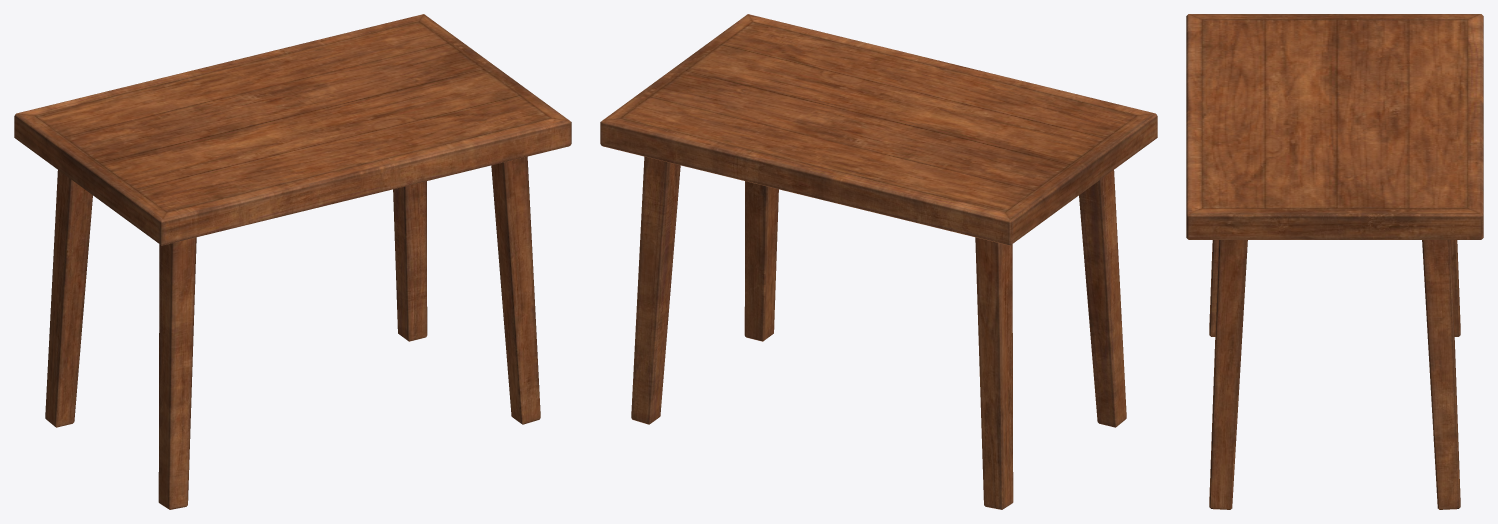
File: wooden_table_02.glb
3 views of the same model, side by side, from view 1: azimuth 30°, elevation 25°; view 2: azimuth 150°, elevation 25°; view 3: azimuth 270°, elevation 25° (orthographic).
Visible parts, largest first — view 1: wooden_table_02; view 2: wooden_table_02; view 3: wooden_table_02.
Part boxes in pixels (box(x1,y1,x2,y2)): wooden_table_02: box(14, 14, 571, 509); wooden_table_02: box(600, 14, 1157, 509); wooden_table_02: box(1186, 14, 1483, 509).
Size of the model in its own units: 1.13 by 0.7996 by 0.706.
1 material, 1 textured.
